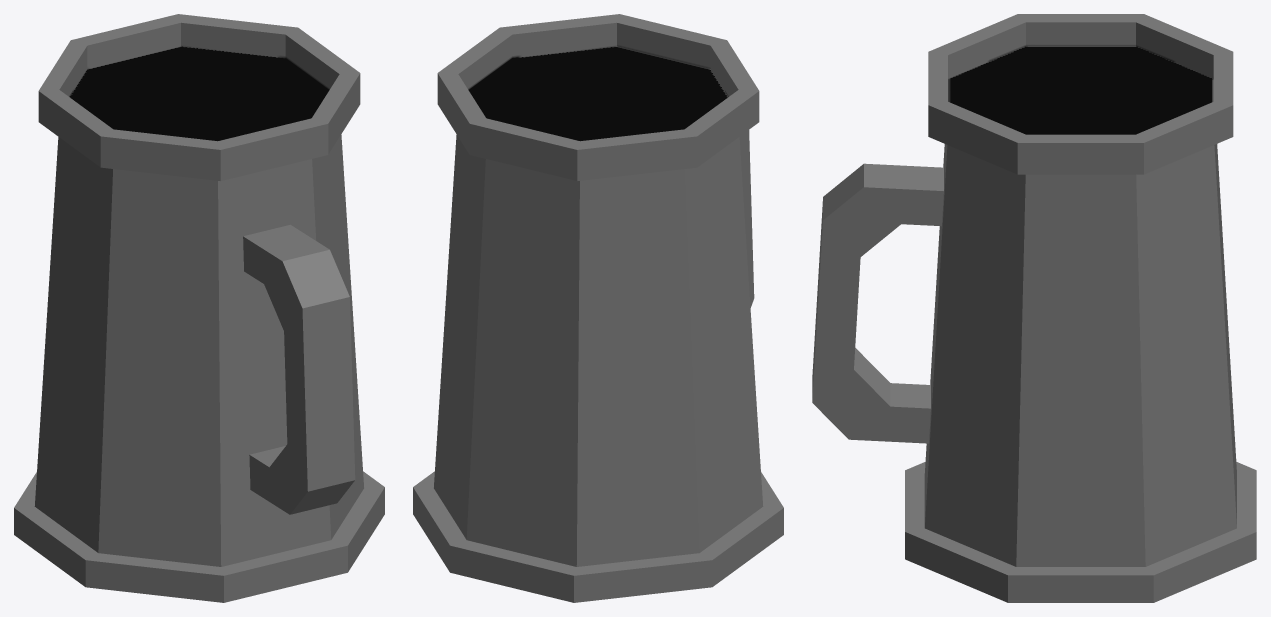
File: Mug.fbx
3 renders of one model, left to right at view 1: azimuth 30°, elevation 25°; view 2: azimuth 150°, elevation 25°; view 3: azimuth 270°, elevation 25°, orthographic.
Parts seen in each view (by area): view 1: Mug; view 2: Mug; view 3: Mug.
Part boxes in pixels (bbox=[...]): Mug: bbox=[14, 14, 384, 602]; Mug: bbox=[413, 14, 783, 602]; Mug: bbox=[812, 14, 1256, 602].
Size of the model in its own units: 12.23 by 17.28 by 15.46.
2 materials, 2 textured.
